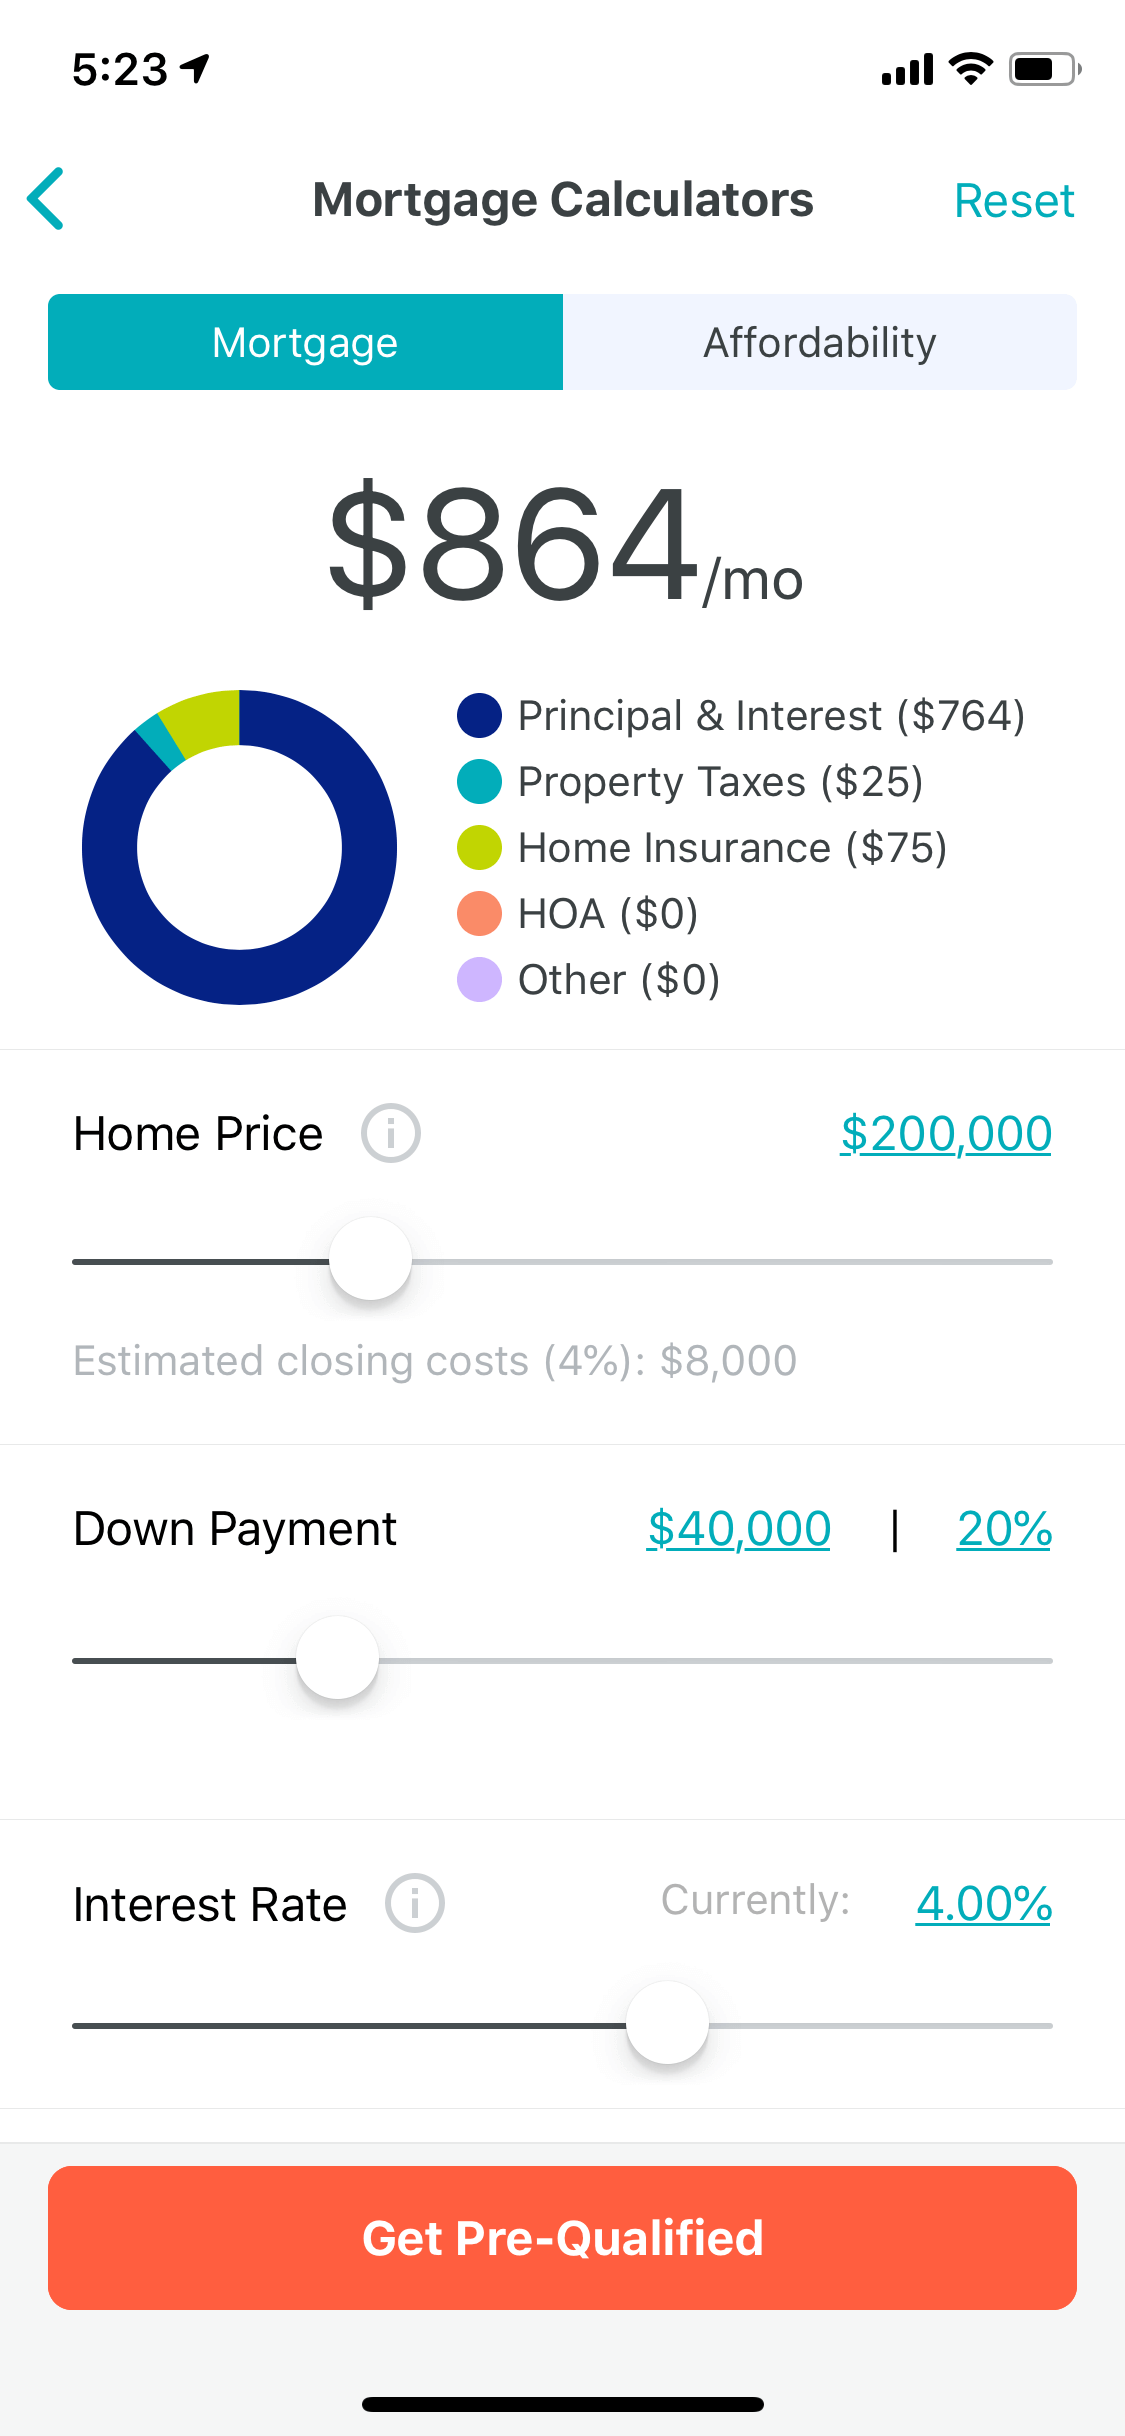Buttons: (40, 2152, 1092, 2330), (914, 146, 1105, 255), (2, 134, 117, 261), (345, 1084, 430, 1168), (381, 1853, 454, 1940)
Progress indicators: (54, 1181, 1074, 1325), (57, 1608, 1075, 1717), (68, 1979, 1074, 2074)
